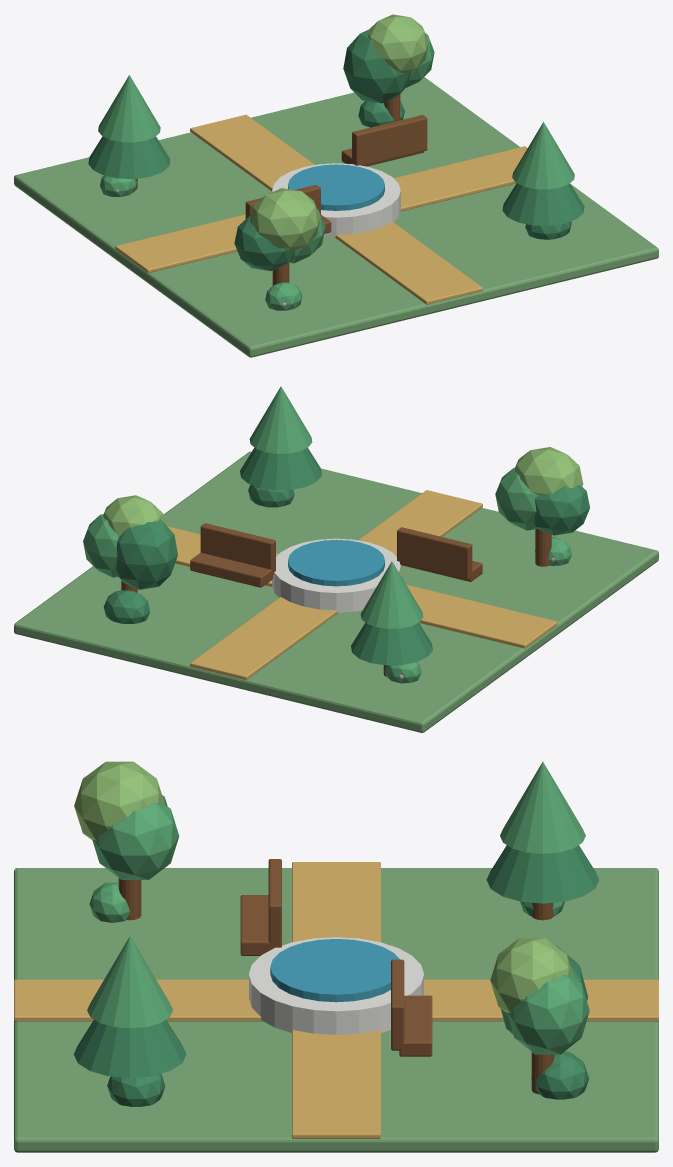
The model's file is PARK_2x2_001.glb.
3 renders of one model, top to bottom at view 1: azimuth 30°, elevation 25°; view 2: azimuth 150°, elevation 25°; view 3: azimuth 270°, elevation 25°, orthographic. The views are drawn at different scales.
Visible parts, largest first — view 1: PARK_2x2_001_Visual; view 2: PARK_2x2_001_Visual; view 3: PARK_2x2_001_Visual.
Part boxes in pixels (left/top/right/bottom): PARK_2x2_001_Visual: left=14, top=14, right=658, bottom=357; PARK_2x2_001_Visual: left=14, top=386, right=658, bottom=732; PARK_2x2_001_Visual: left=14, top=761, right=658, bottom=1152.
Size of what is drawn, in the model's own units: 3.9 by 1.13 by 3.9.
